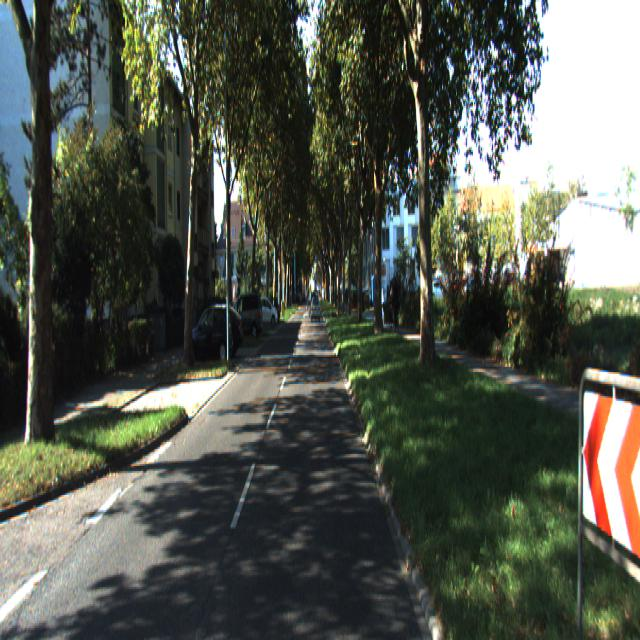Car: (185, 303, 236, 368), (226, 288, 264, 342), (256, 296, 278, 327)
